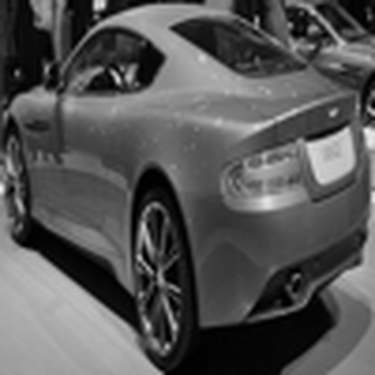car: (1, 14, 357, 366), (235, 1, 373, 114)
